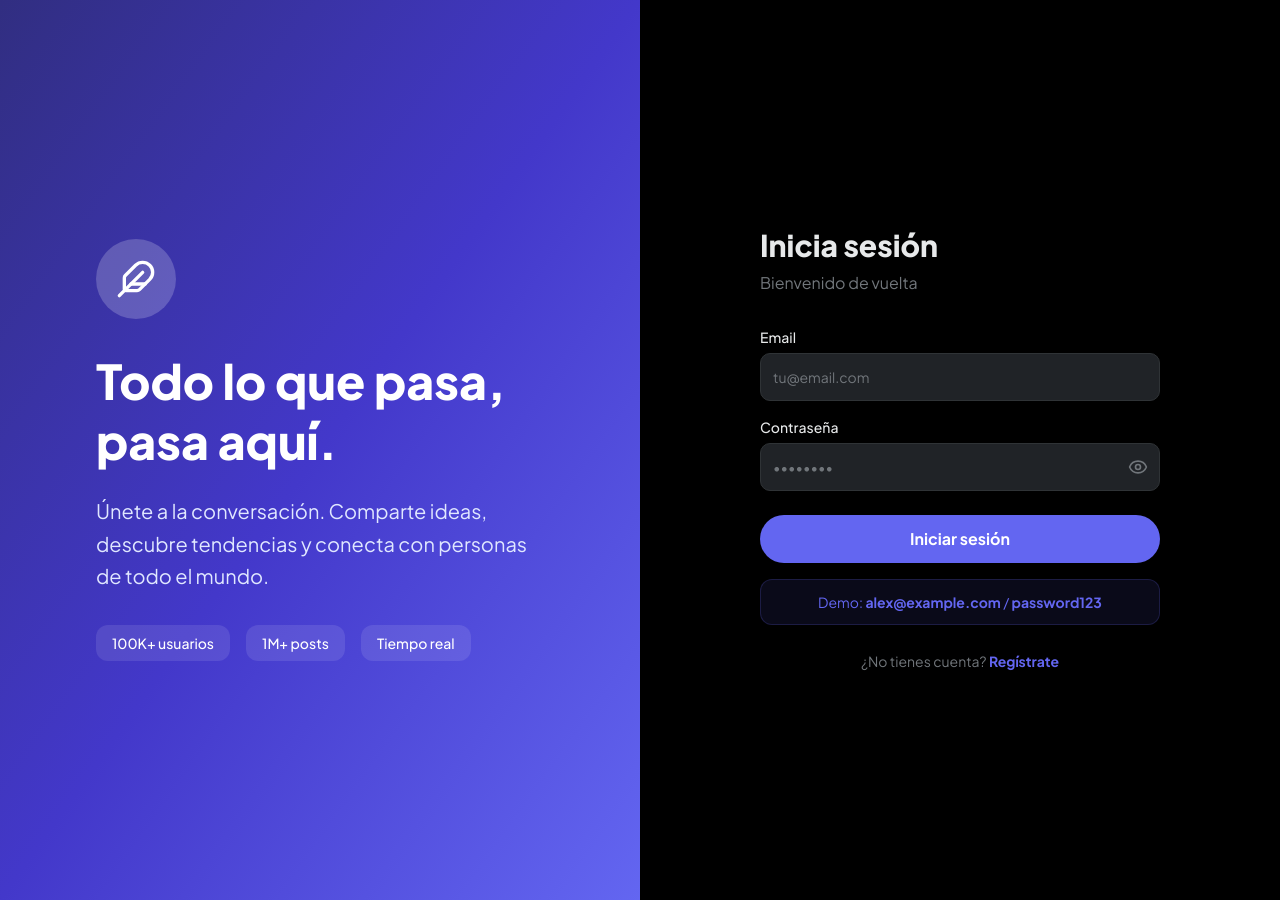
Test: Login page › shows validation error when submitting empty form
The image size is (1280, 900).
What coordinates should you click on to do the following:
click the button "Iniciar sesión"
I would click on:
 (960, 539)
Its box is [760,515,1160,563].
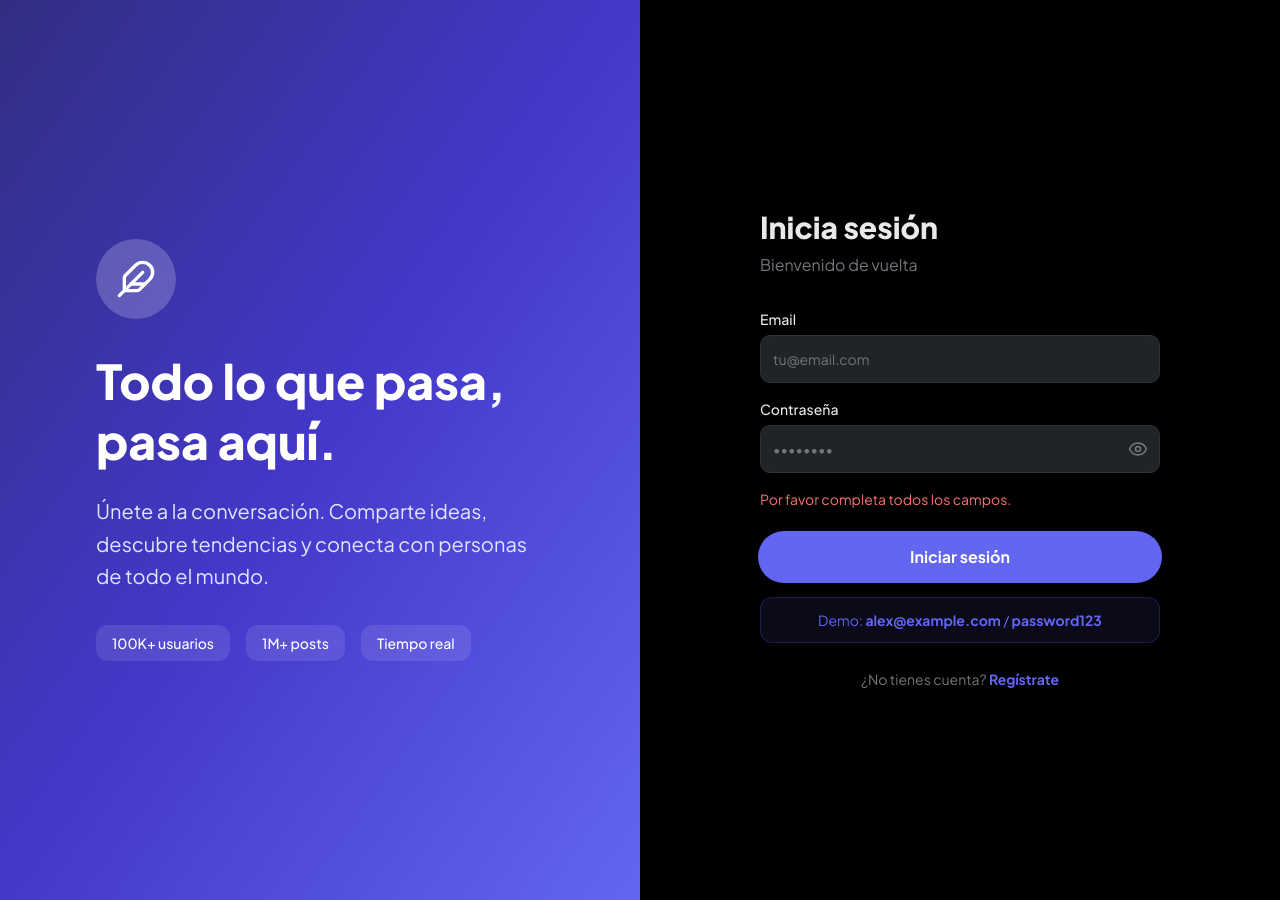
expect the text "Por favor completa todos los campos." is shown: met, box [760,490,1011,508]
